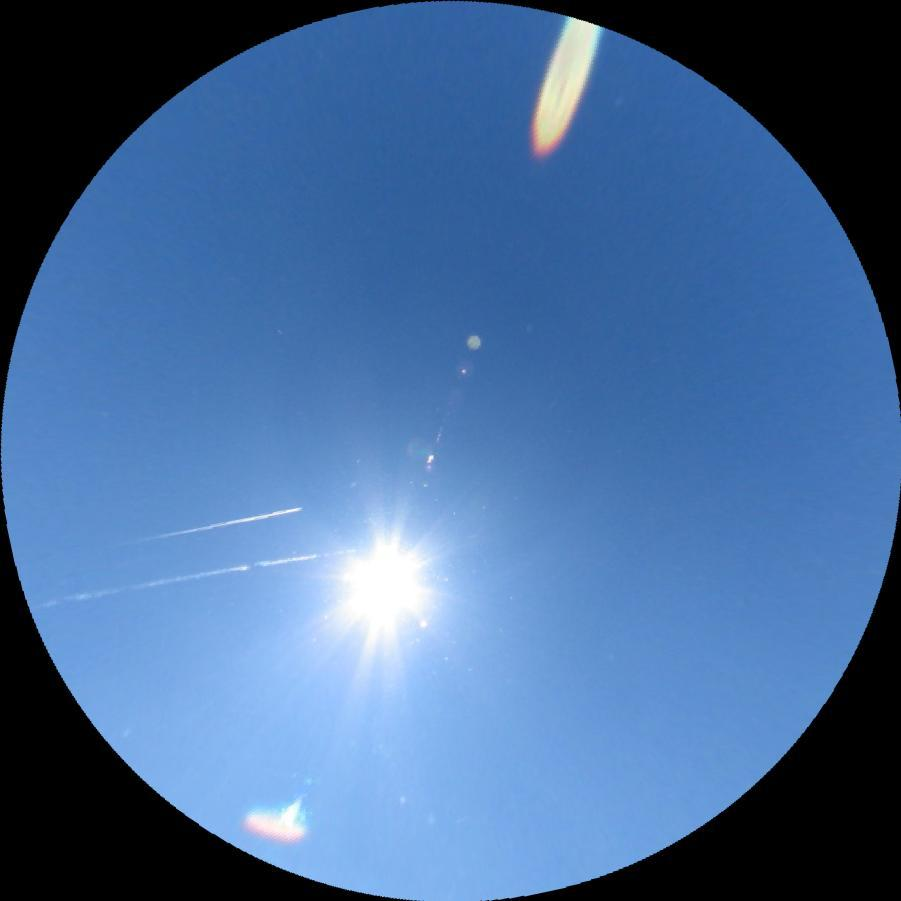contrail young: (145, 504, 304, 541), (545, 396, 558, 411)
parasite: (26, 542, 370, 612)
sun: (328, 530, 441, 641)
